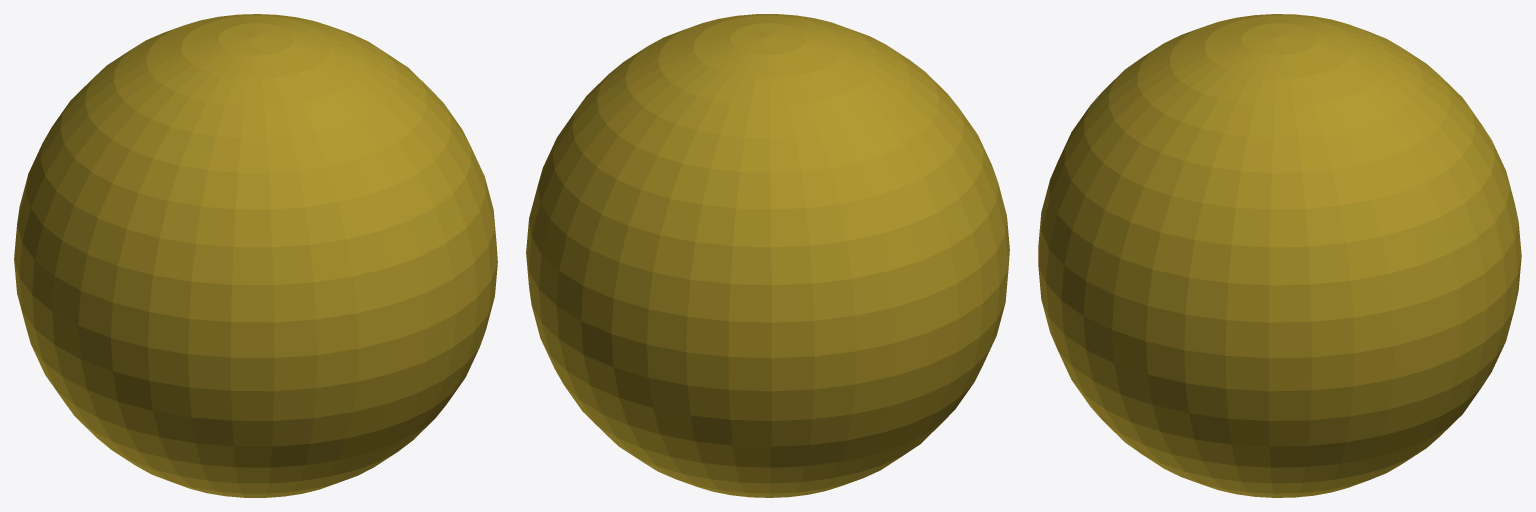
File: Shotgun_bullet_gold.fbx
3 views of the same model, side by side, from view 1: azimuth 30°, elevation 25°; view 2: azimuth 150°, elevation 25°; view 3: azimuth 270°, elevation 25° (orthographic).
Parts seen in each view (by area): view 1: Sphere; view 2: Sphere; view 3: Sphere.
Part boxes in pixels (x1,y1,x2,y2): Sphere: (14, 14, 497, 497); Sphere: (526, 14, 1009, 497); Sphere: (1038, 14, 1521, 497).
Bounding box in the file's own units: 200 × 200 × 200.
